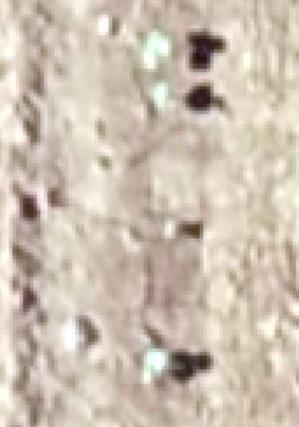cotton: (146, 33, 170, 61), (144, 350, 170, 375), (152, 80, 168, 106)
